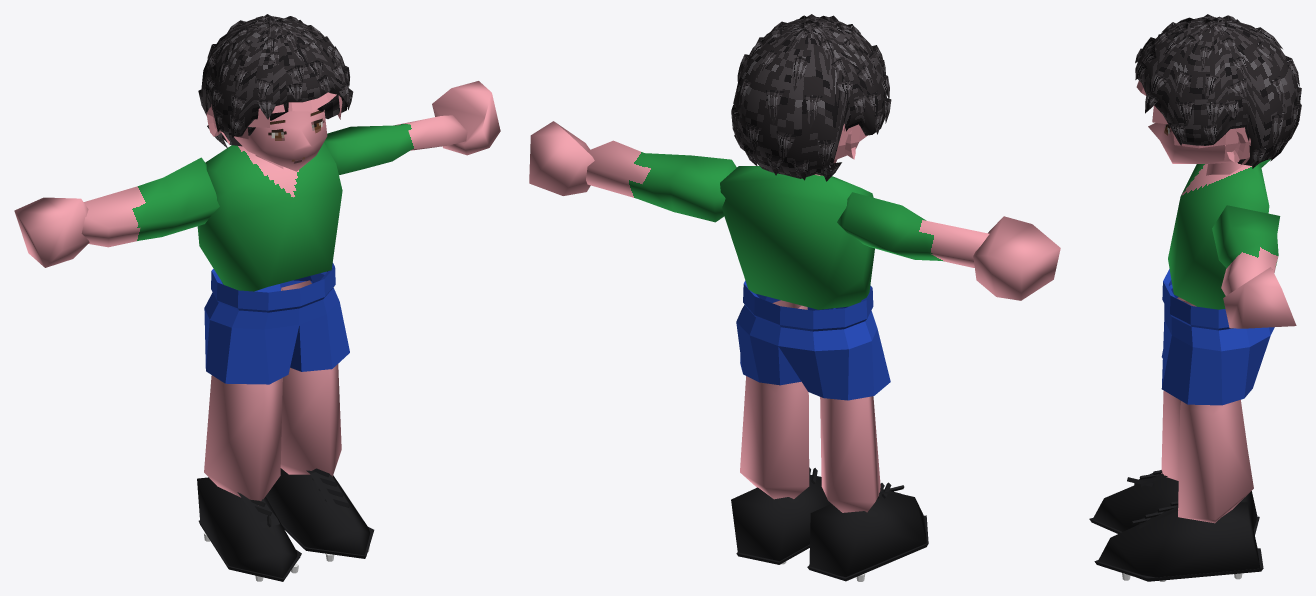
Rendered from 05-crespo-curto_preto.glb.
3 views of the same model, side by side, from view 1: azimuth 30°, elevation 25°; view 2: azimuth 150°, elevation 25°; view 3: azimuth 270°, elevation 25° (orthographic). The views are drawn at different scales.
Visible parts, largest first — view 1: Camisa_Tronco, Bermuda, Cabelo, Perna.R, Braco.R, Perna.L, Chuteira.R, Chuteira.L, Braco.L, Mao.R, Cabeca, Mao.L (+2 smaller); view 2: Cabelo, Camisa_Tronco, Bermuda, Perna.L, Braco.L, Chuteira.R, Perna.R, Braco.R, Mao.R, Chuteira.L, Mao.L, Chuteira_Sola.R; view 3: Cabelo, Bermuda, Chuteira.L, Camisa_Tronco, Perna.L, Braco.L, Mao.L, Chuteira.R, Perna.R, Cabeca, Couro_Cabeludo, Chuteira_Sola.L (+3 smaller).
Boxes of the visible parts, box(x1,y1,x2,y2) form: Camisa_Tronco: box(197, 143, 342, 291); Bermuda: box(204, 262, 349, 384); Cabelo: box(198, 14, 353, 148); Perna.R: box(204, 375, 282, 505); Braco.R: box(81, 157, 219, 247); Perna.L: box(280, 280, 341, 476); Chuteira.R: box(197, 477, 300, 577); Chuteira.L: box(265, 468, 370, 555); Braco.L: box(324, 115, 467, 174); Mao.R: box(14, 197, 89, 267); Cabeca: box(234, 109, 327, 171); Mao.L: box(432, 81, 500, 155); Cabelo: box(731, 14, 891, 181); Camisa_Tronco: box(720, 166, 874, 309); Bermuda: box(736, 280, 890, 400); Perna.L: box(740, 300, 809, 499); Braco.L: box(586, 140, 736, 222); Chuteira.R: box(809, 489, 926, 576); Perna.R: box(820, 396, 880, 512); Braco.R: box(837, 192, 989, 267); Mao.R: box(973, 216, 1060, 300); Chuteira.L: box(731, 475, 831, 561); Mao.L: box(529, 121, 594, 195); Chuteira_Sola.R: box(807, 515, 928, 581); Cabelo: box(1135, 14, 1301, 168); Bermuda: box(1161, 269, 1274, 405); Chuteira.L: box(1098, 502, 1260, 581); Camisa_Tronco: box(1168, 163, 1269, 309); Perna.L: box(1178, 400, 1253, 523); Braco.L: box(1212, 205, 1280, 295); Mao.L: box(1223, 267, 1296, 328); Chuteira.R: box(1093, 473, 1257, 531); Perna.R: box(1161, 297, 1246, 480); Cabeca: box(1148, 123, 1238, 163); Couro_Cabeludo: box(1136, 81, 1250, 164); Chuteira_Sola.L: box(1094, 548, 1263, 581).
Bounding box in the file's own units: 0.4523 × 0.4597 × 0.1658.
Materials: 3 (3 with a texture image).
